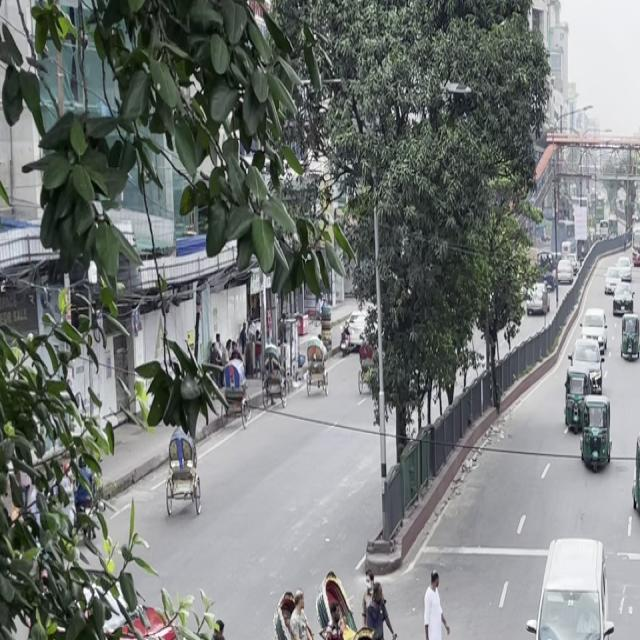car: (520, 522, 626, 640), (566, 334, 604, 400)
rickshaw: (577, 392, 616, 481), (627, 421, 640, 534), (618, 311, 640, 363)
